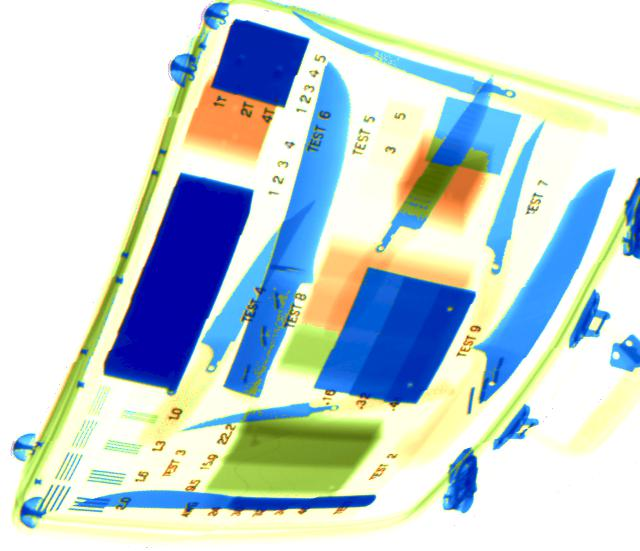Knife: (222, 61, 352, 400), (290, 10, 610, 135), (463, 167, 619, 416), (369, 74, 496, 263), (199, 201, 314, 379), (484, 117, 549, 283), (79, 491, 377, 510), (181, 397, 347, 430)
